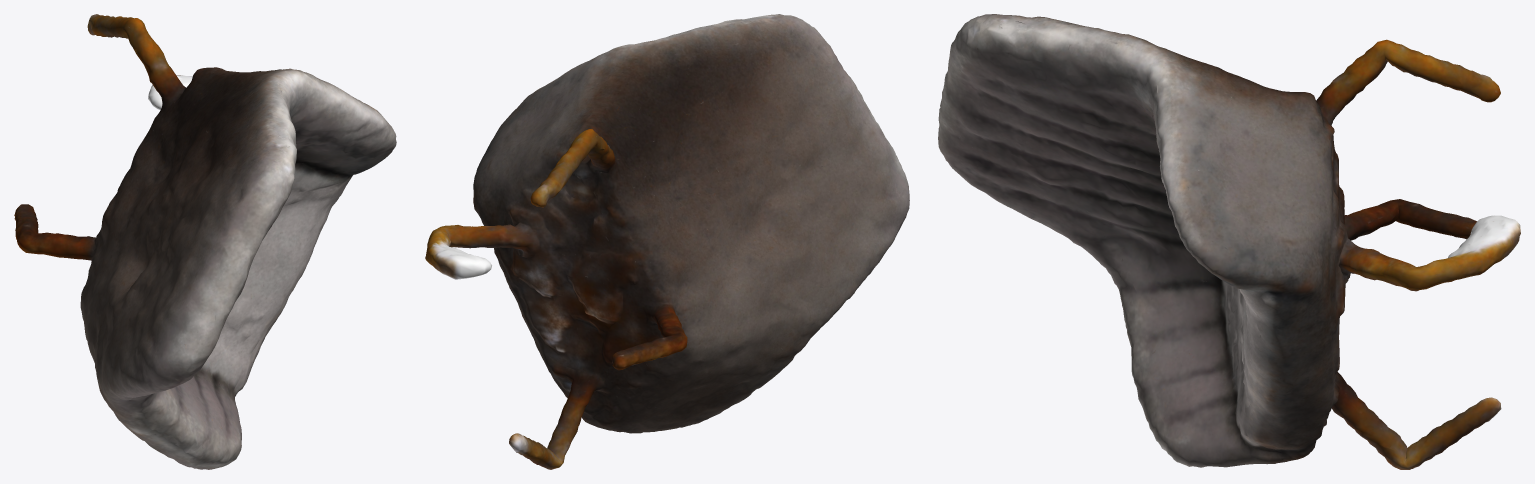
File: chair_after.glb
3 views of the same model, side by side, from view 1: azimuth 30°, elevation 25°; view 2: azimuth 150°, elevation 25°; view 3: azimuth 270°, elevation 25° (orthographic). The views are drawn at different scales.
Visible parts, largest first — view 1: pose0; view 2: pose0; view 3: pose0.
Part boxes in pixels (x1,y1,x2,y2): pose0: (14, 14, 396, 469); pose0: (425, 14, 909, 469); pose0: (938, 14, 1520, 469).
Size of the model in its own units: 0.6718 by 0.7314 by 0.8821.
1 material, 1 textured.
